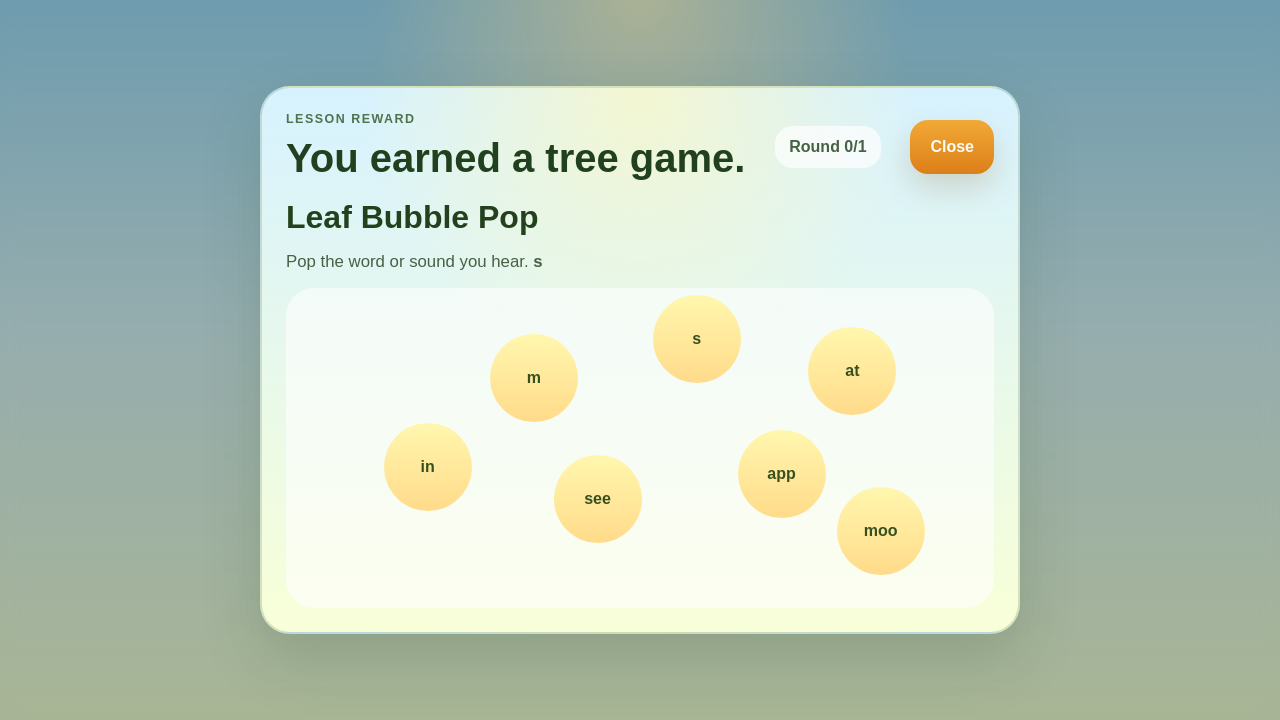
Test: RewardGameModal › replay resets Bubble Pop completion and score
Click the button "s". click: (697, 339)
box: [653, 295, 741, 383]
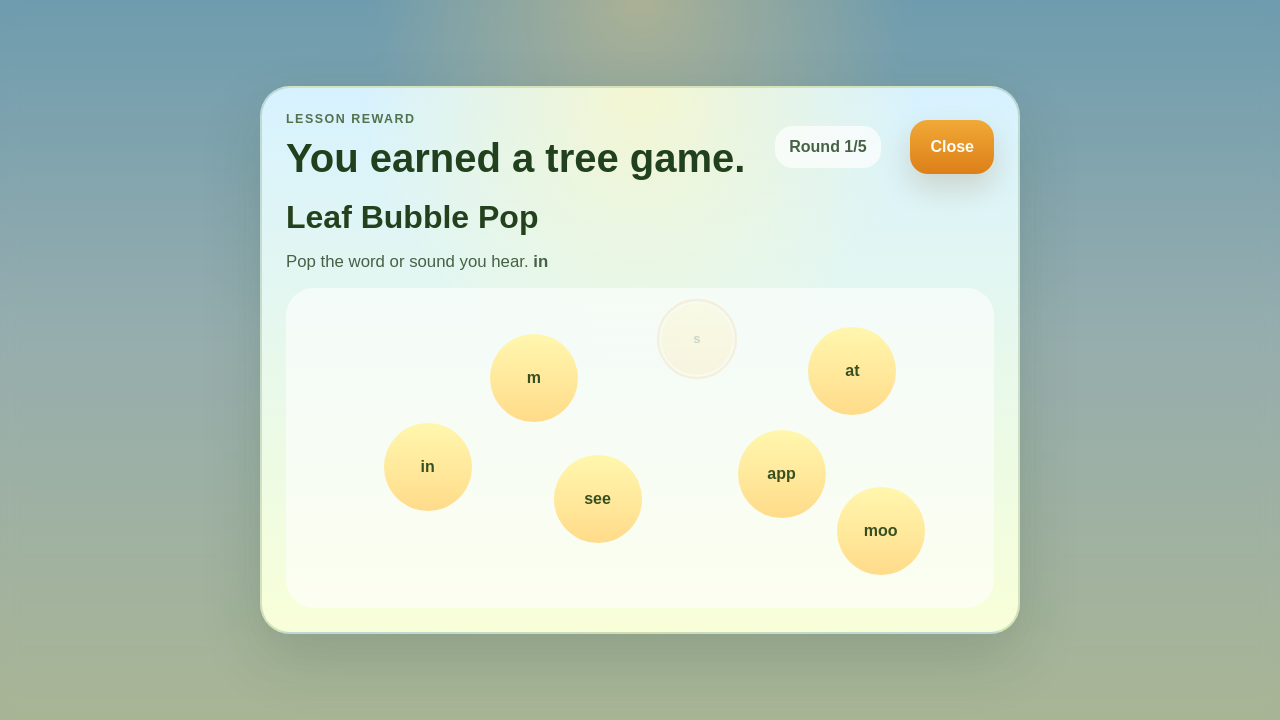
Click the button "in". click: (428, 467)
box: [384, 423, 472, 511]
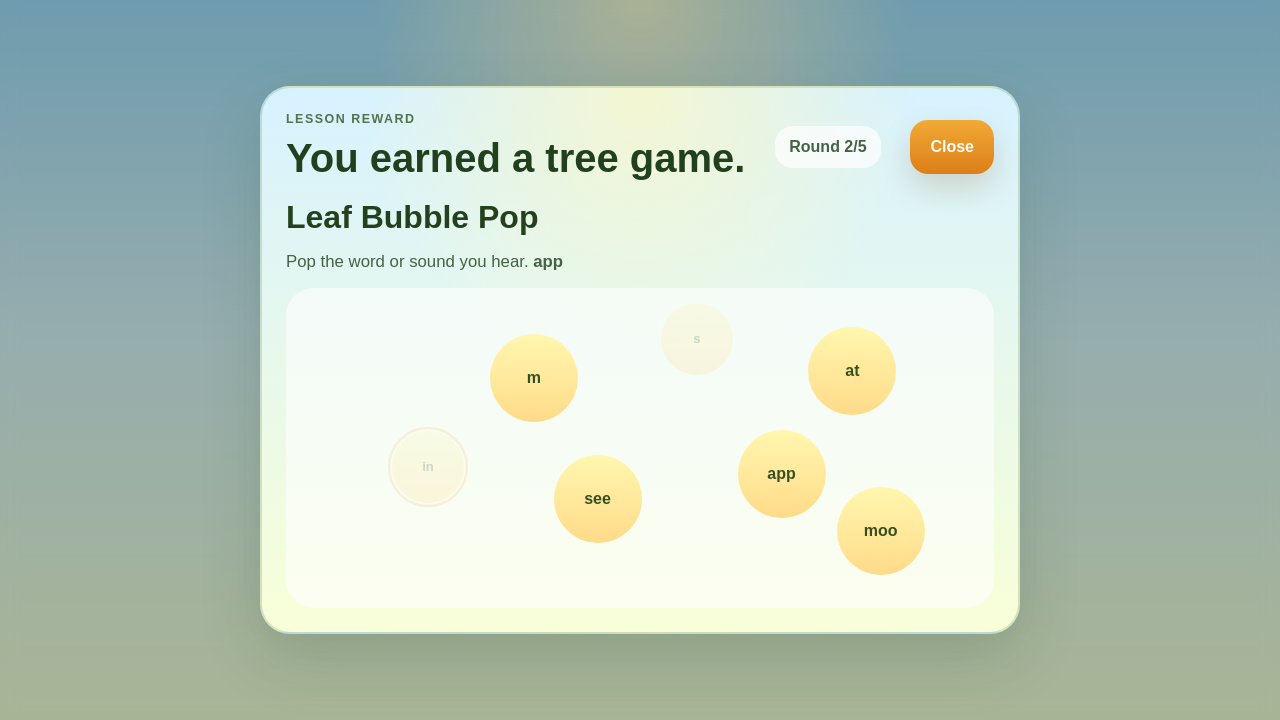
Click the button "app". click: (782, 474)
box: [738, 430, 826, 518]
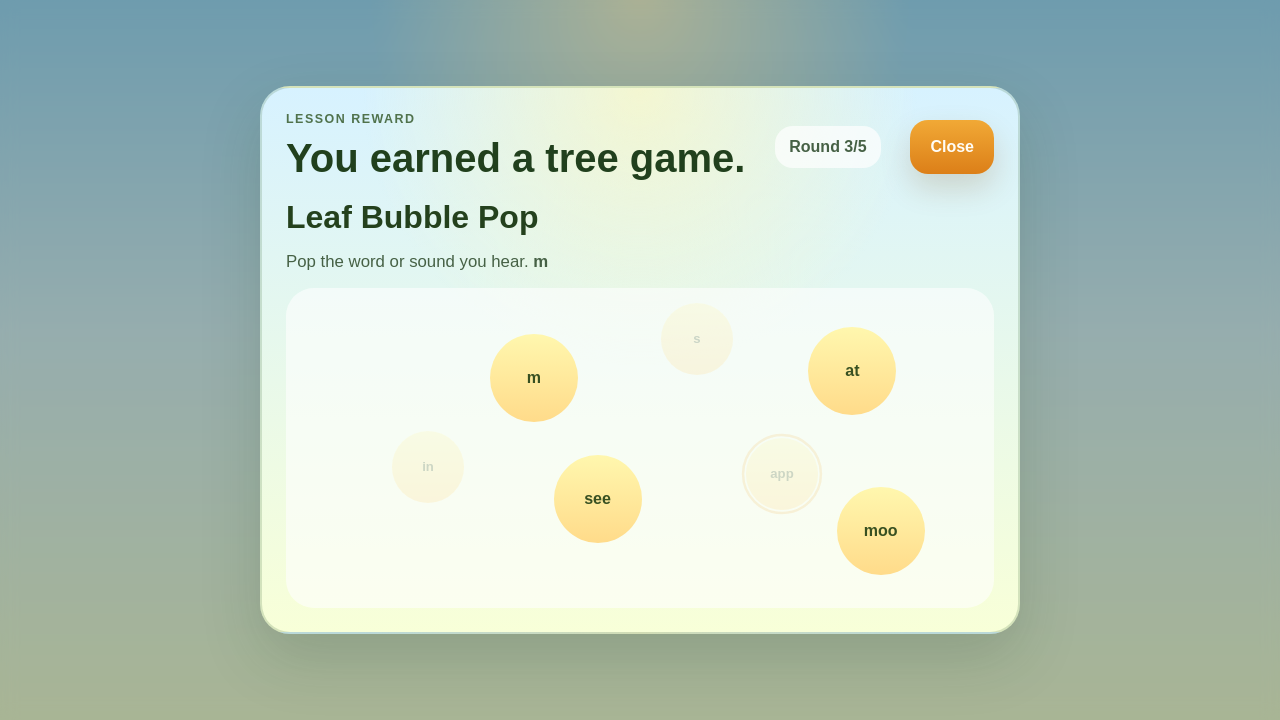
Click the button "m". click: (534, 378)
box: [490, 334, 578, 422]
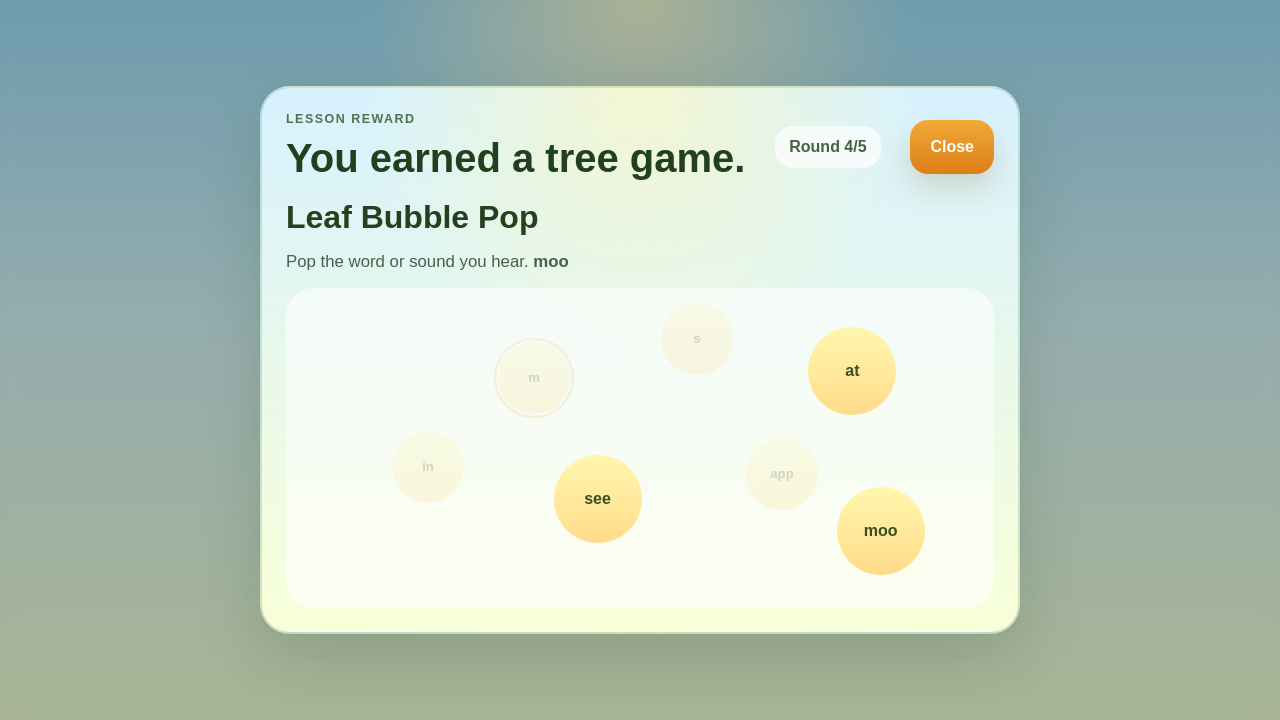
Click the button "moo". click: (881, 531)
box: [837, 487, 925, 575]
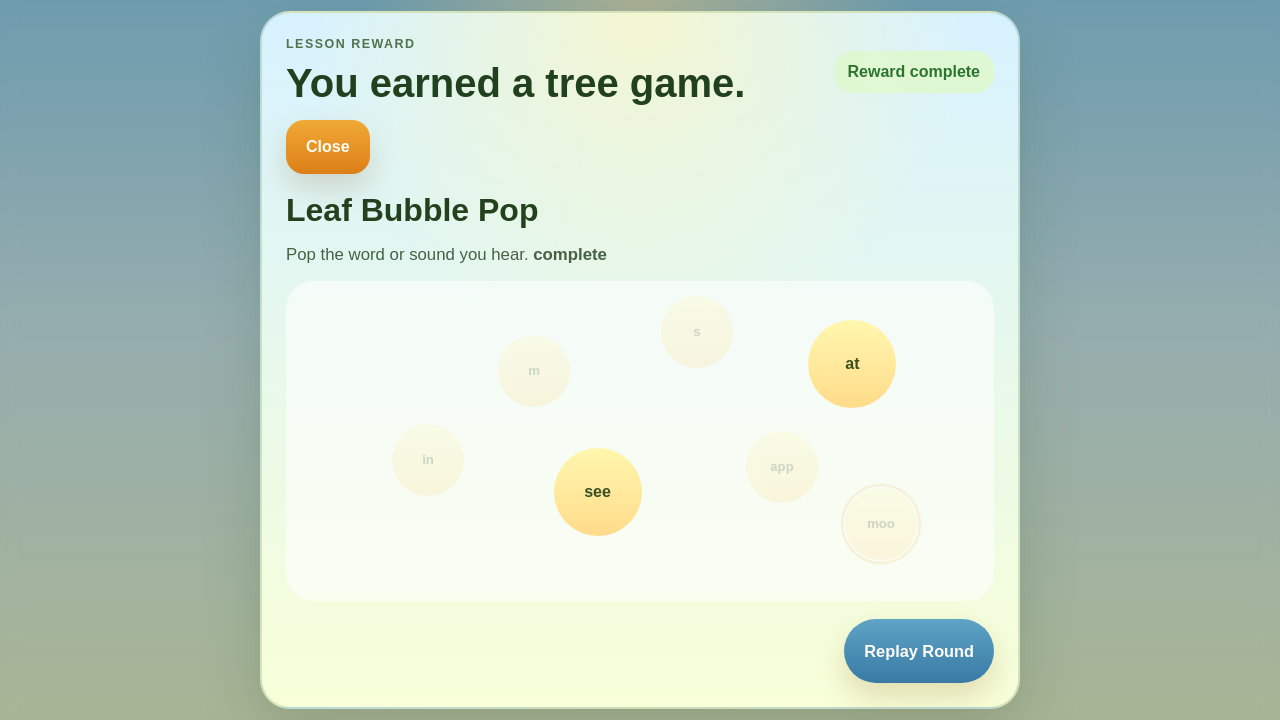
Check: the text "Reward complete" is shown, box [834, 50, 994, 92]
Click the button "Replay Round". click: (919, 651)
box: [844, 619, 994, 683]
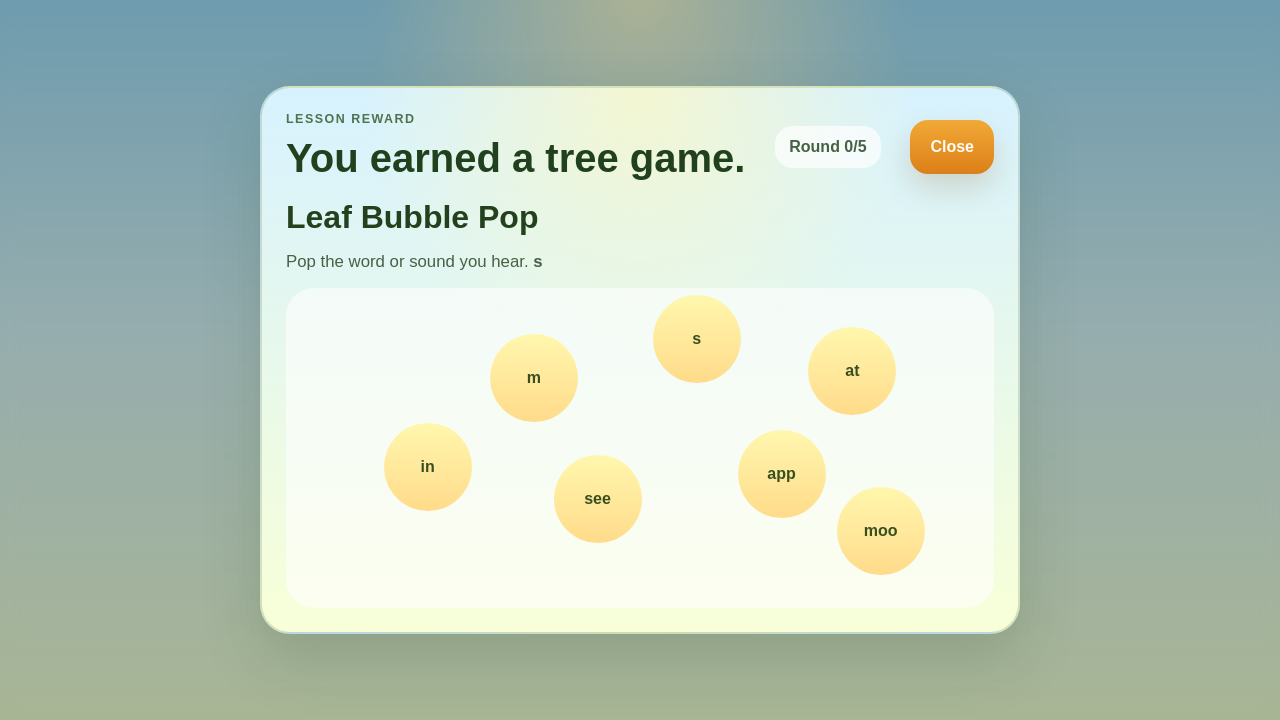
Check: the text "Round 0/5" is shown, box [775, 126, 881, 168]
Check: the text "Reward complete" is gone
